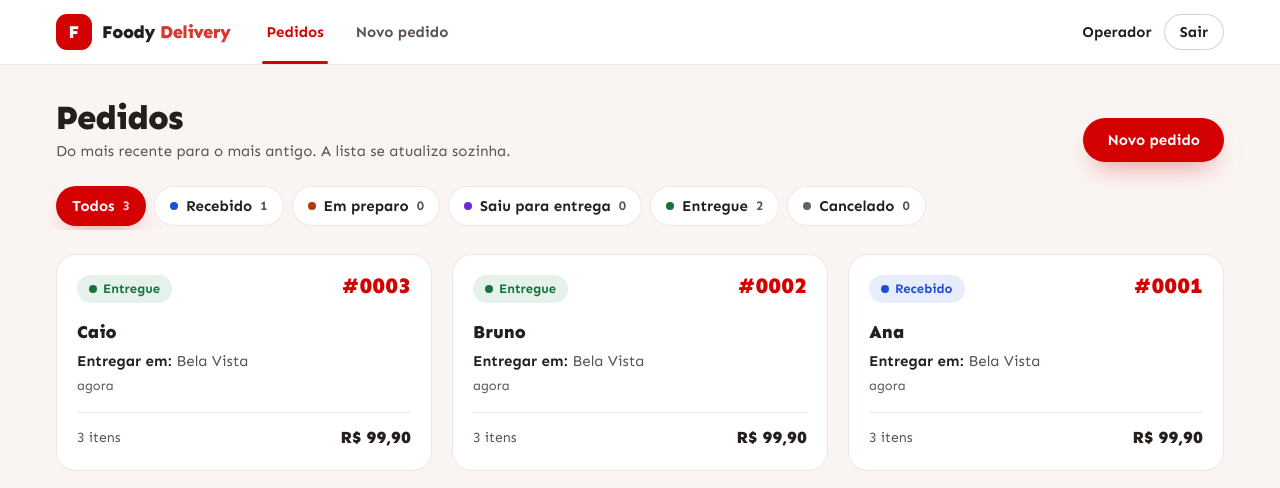
Test: lista de pedidos › conta e filtra os pedidos por status
expect the text "Ana" is shown: met, box [869, 320, 904, 342]
Click the button "Entregue 2" at (715, 206), box [650, 186, 779, 226]
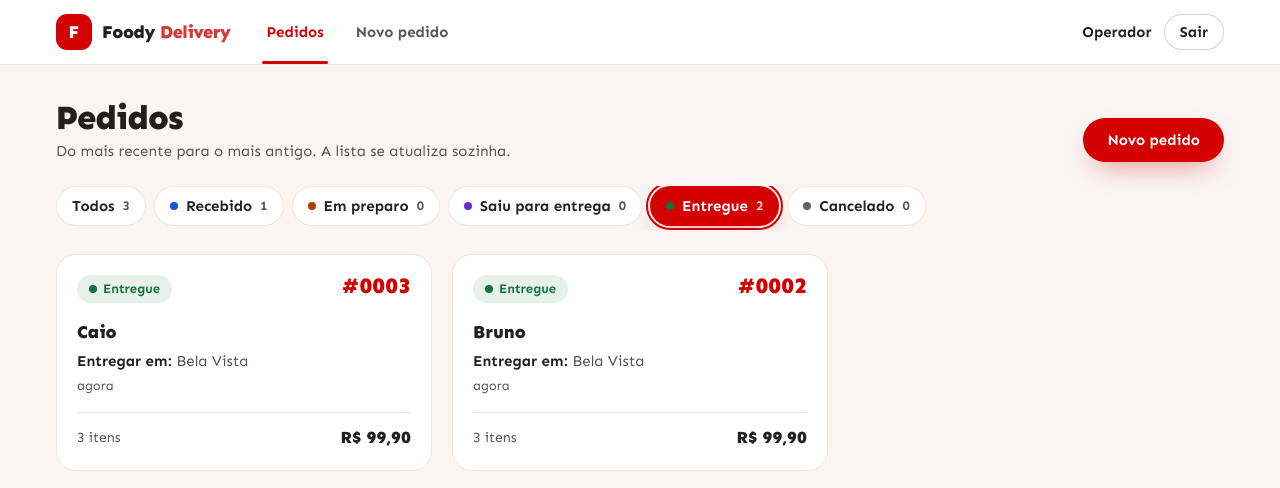
expect the text "Bruno" is shown: met, box [473, 320, 526, 342]
expect the link "Ana" is gone: met
Click the button "Cancelado 0" at (856, 206), box [787, 186, 926, 226]
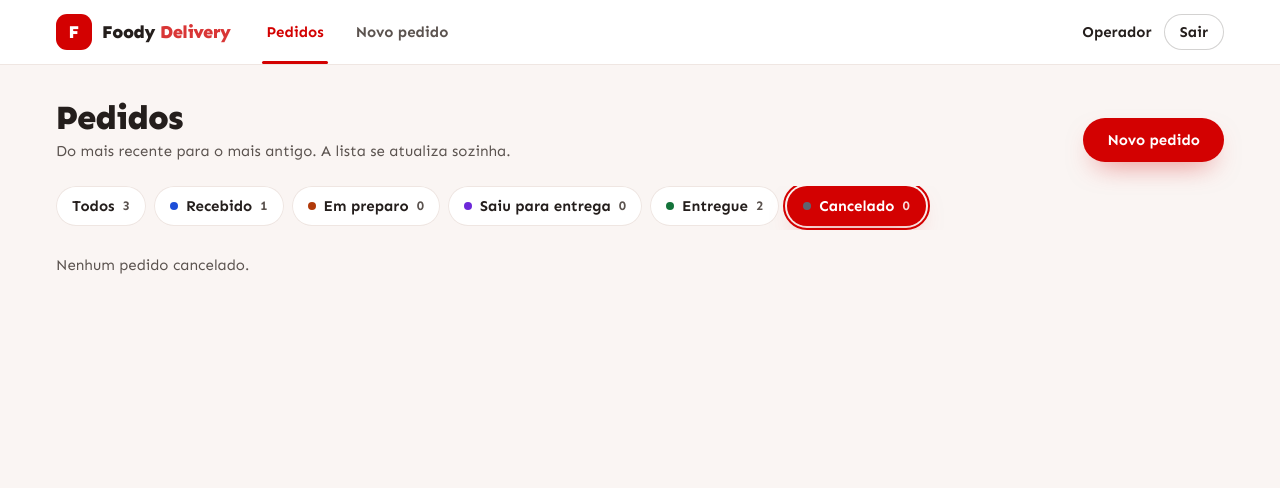
expect the text "Nenhum pedido cancelado." is shown: met, box [56, 256, 249, 274]
